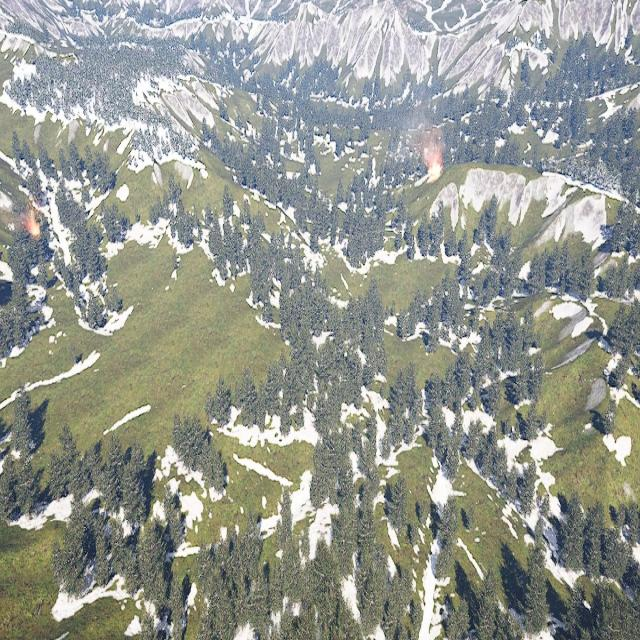fire: (23, 211, 41, 238), (427, 155, 442, 177)
smoke: (406, 107, 443, 159)
